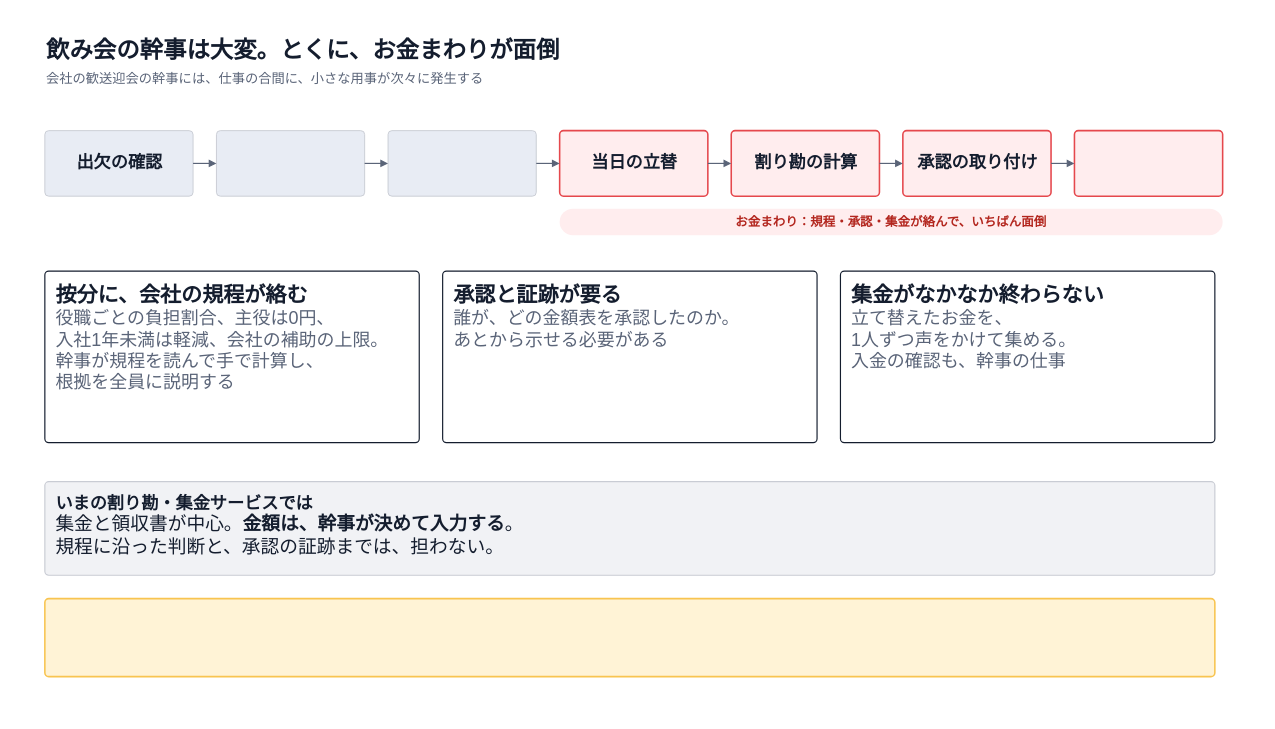
Image size: 1275x729. Some labels were removed from this diagram. Each missing label, with the centre of its shape:
"お金まわりまで任せたい。ただし、AI にお金を触らせるのは怖い。" goes at pixel 629 637.
"予約" goes at pixel 461 163.
"店探し" goes at pixel 290 163.
"集金の声かけ" goes at pixel 1148 163.
